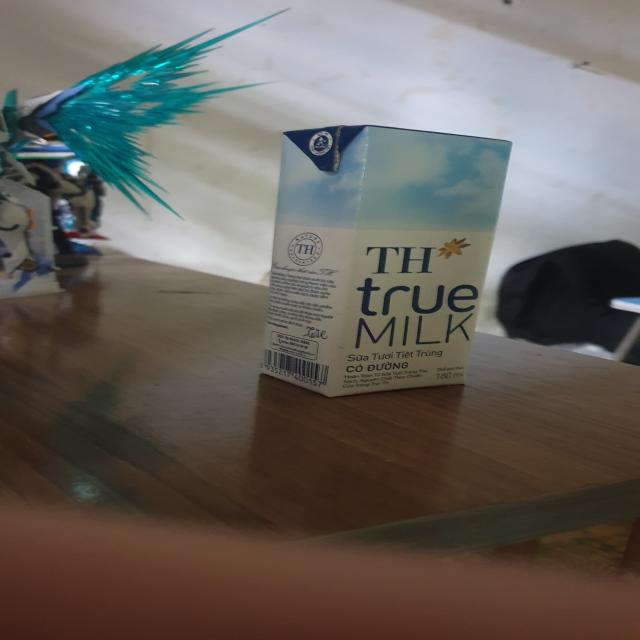TH: (255, 125, 517, 399)
